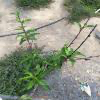Peach leaf: (34, 66, 47, 76), (26, 59, 34, 72), (27, 80, 36, 89)
